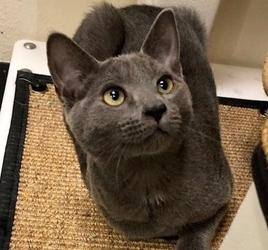rblue: (43, 9, 201, 173)
